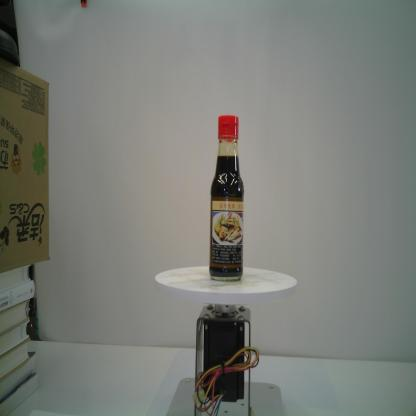Seasoner: (209, 114, 244, 281)
